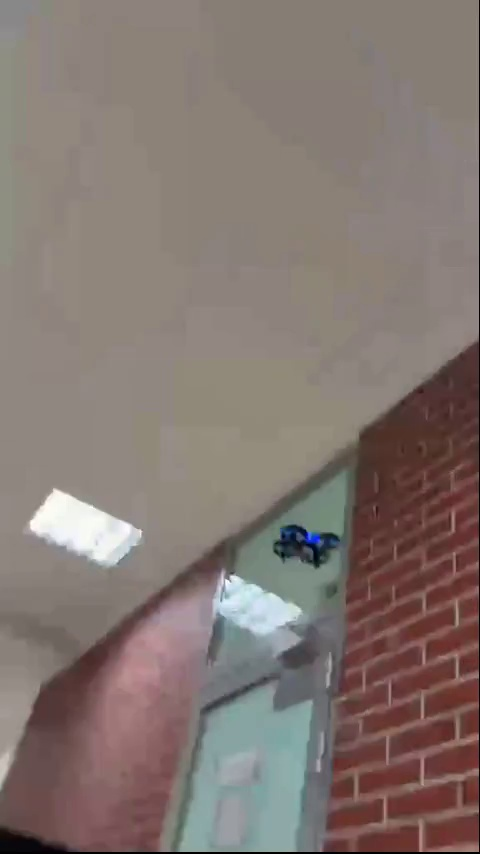drone: (277, 523, 339, 565)
